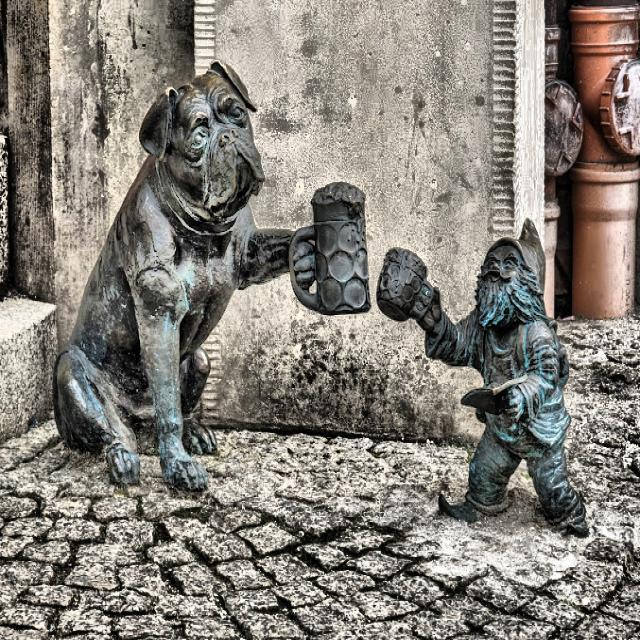Piwozlopek_ i_Piesel_Piwosz: (54, 61, 370, 490), (376, 221, 588, 535)
